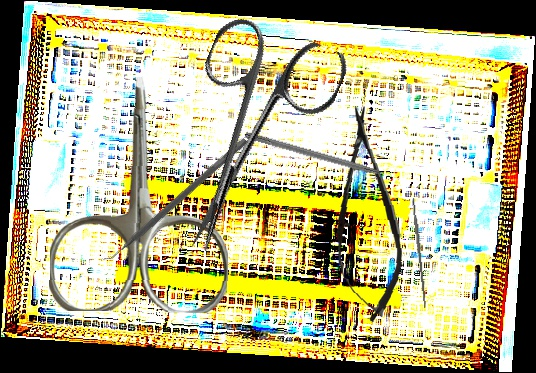Hook Surgical: (243, 130, 402, 185)
Iris Scissors: (140, 7, 352, 275), (48, 75, 232, 314)
Micro Scissor: (325, 102, 408, 325)
Scalpel Handle: (411, 197, 428, 309)
Spatula Surgical: (97, 131, 249, 269)
